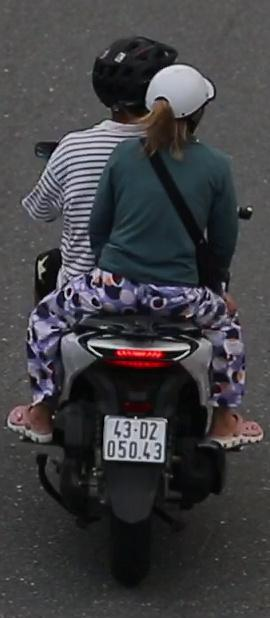LP: (101, 413, 171, 470)
helmet: (86, 30, 168, 134), (143, 63, 219, 156)
